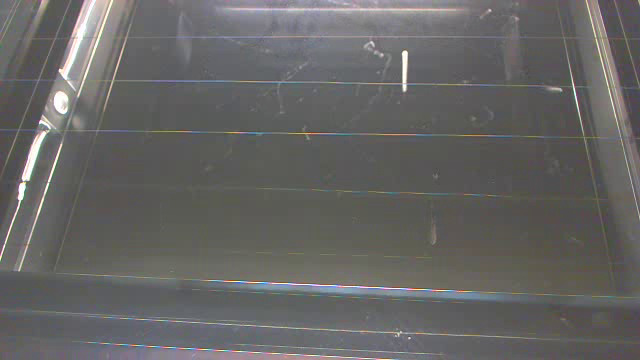alpha: (400, 48, 408, 95)
